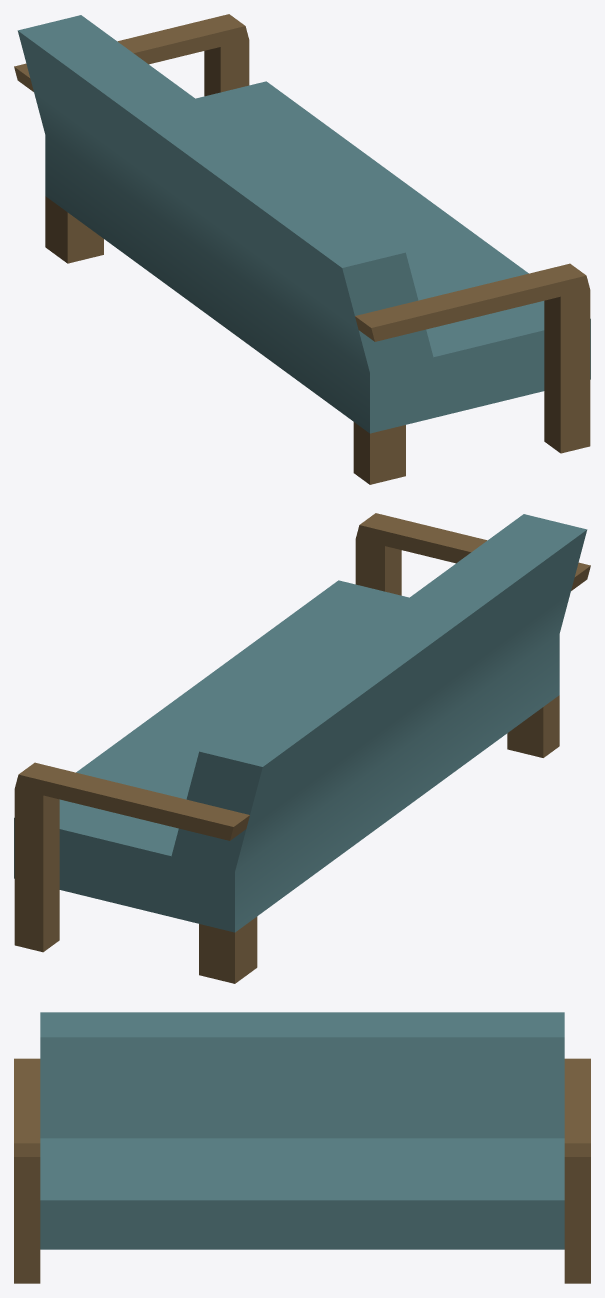
Rendered from SofaLongBlue.fbx.
3 renders of one model, top to bottom at view 1: azimuth 30°, elevation 25°; view 2: azimuth 150°, elevation 25°; view 3: azimuth 270°, elevation 25°, orthographic. The views are drawn at different scales.
Visible parts, largest first — view 1: pCube1; view 2: pCube1; view 3: pCube1.
Part boxes in pixels (bbox=[...]): pCube1: bbox=[14, 14, 590, 484]; pCube1: bbox=[14, 513, 590, 983]; pCube1: bbox=[14, 1012, 590, 1283].
Size of the model in its own units: 8.16 by 7.01 by 20.31.
